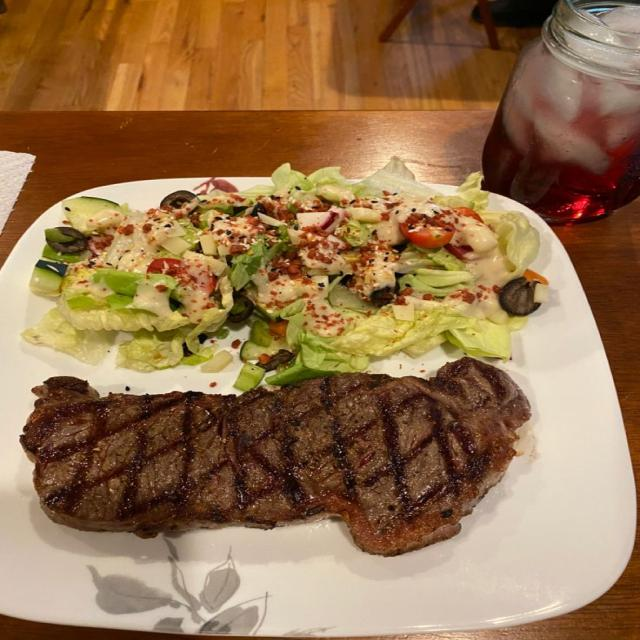beef steak: (20, 357, 530, 555)
